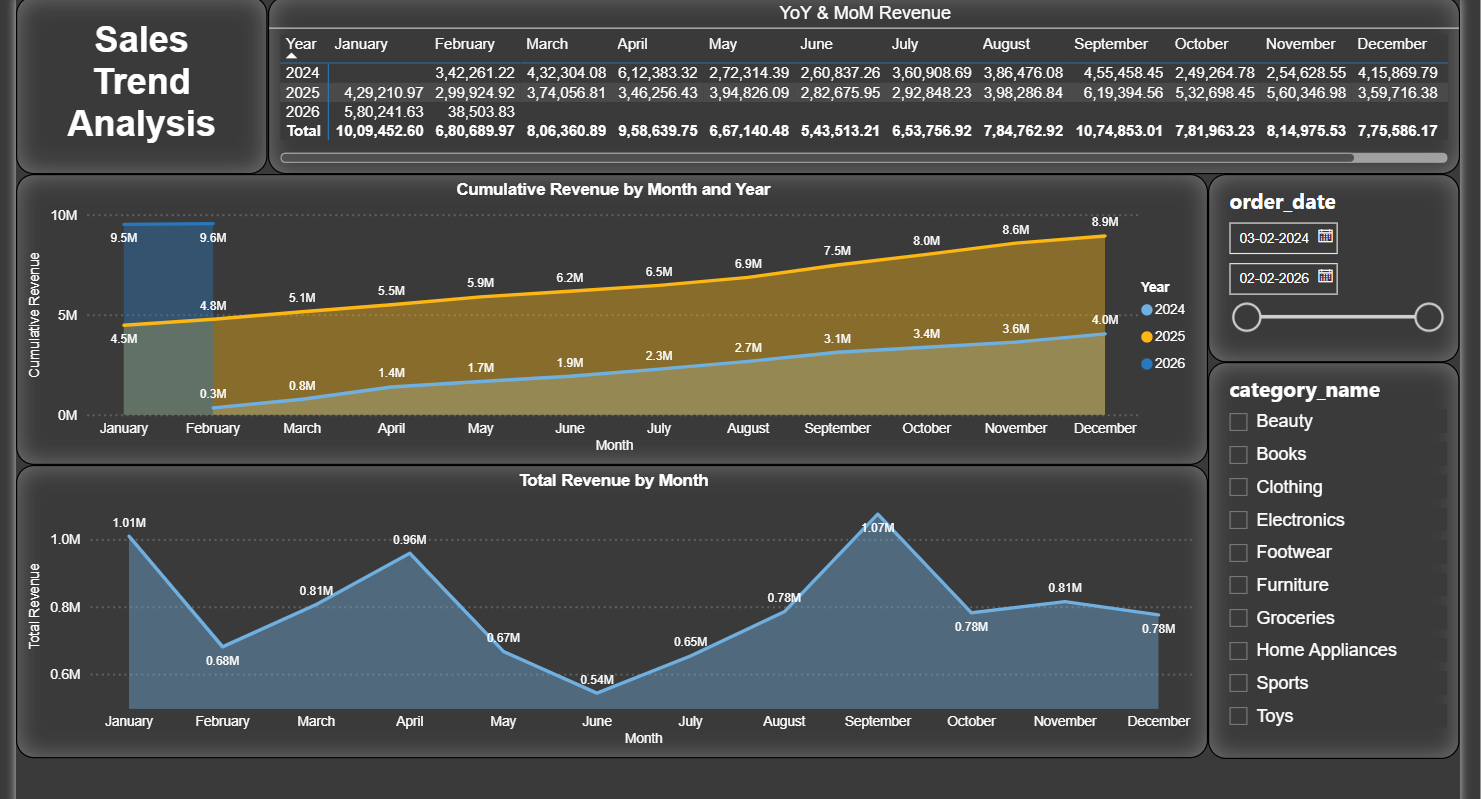

This screenshot's page, from the dashboard's own definition file:
{"tool":"powerbi","page":{"name":"Sales","canvas":[1280,720],"ordinal":1},"visuals":[{"type":"lineChart","fields":{"Y":["sales_etl1 customers.Total Revenue"],"Category":["sales_etl1 orders.order_date.Variation.Date Hierarchy.Month","sales_etl1 orders.order_date.Variation.Date Hierarchy.Day"]},"box":[0,416.2,1057.3,260.3],"z":0},{"type":"areaChart","fields":{"Y":["sales_etl1 vw_sales_fact.Cumulative Revenue"],"Category":["DateTable.Date.Variation.Date Hierarchy.Month"],"Series":["DateTable.Date.Variation.Date Hierarchy.Year"]},"box":[0,157.8,1057.3,258.4],"z":1000},{"type":"pivotTable","title":"YoY & MoM Revenue","fields":{"Rows":["sales_etl1 orders.order_date.Variation.Date Hierarchy.Year"],"Columns":["sales_etl1 orders.order_date.Variation.Date Hierarchy.Month"],"Values":["Sum(sales_etl1 vw_sales_fact.revenue)"]},"box":[223.1,0,1057.3,157.8],"z":2000},{"type":"slicer","fields":{"Values":["sales_etl1 orders.order_date"]},"box":[1057.3,157.8,223.1,166.9],"z":3000},{"type":"slicer","fields":{"Values":["sales_etl1 vw_sales_fact.category_name"]},"box":[1057.3,324.6,223.1,351.8],"z":4000},{"type":"textbox","box":[0,0,223,158],"z":5000}]}

Visuals, with their boxes in screenshot pixels (x1, y1, x2, y2):
lineChart - sales_etl1 customers.Total Revenue x sales_etl1 orders.order_date.Variation.Date Hierarchy.Month: Rect(8, 422, 1206, 717)
areaChart - sales_etl1 vw_sales_fact.Cumulative Revenue x DateTable.Date.Variation.Date Hierarchy.Month: Rect(8, 129, 1206, 422)
"YoY & MoM Revenue" pivotTable: Rect(261, 0, 1459, 129)
slicer - sales_etl1 orders.order_date: Rect(1206, 129, 1459, 318)
slicer - sales_etl1 vw_sales_fact.category_name: Rect(1206, 318, 1459, 717)
textbox: Rect(8, 0, 261, 129)
